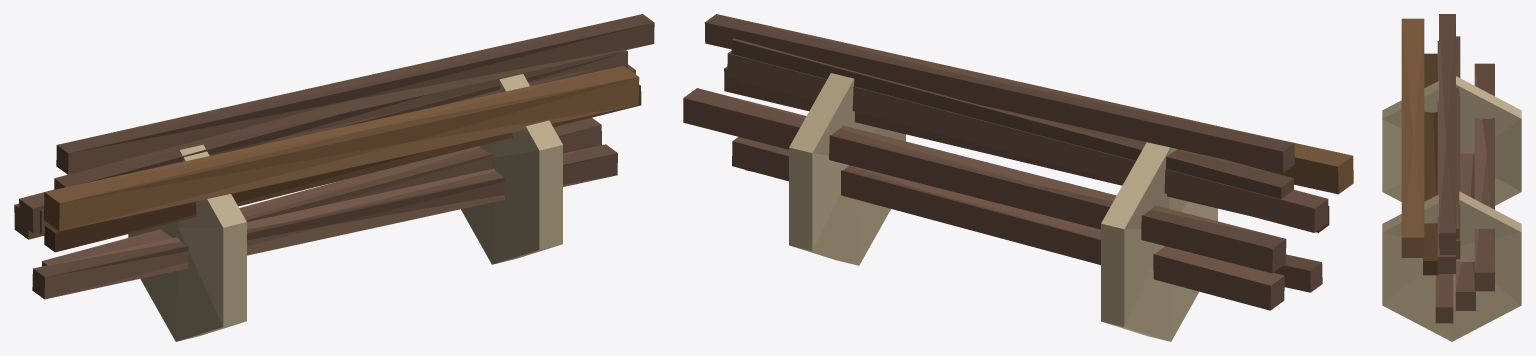
Rendered from fuel_firewood_vyazanka_hvorosta_idle.glb.
The picture shows the model from 3 angles, left to right: view 1: azimuth 30°, elevation 25°; view 2: azimuth 150°, elevation 25°; view 3: azimuth 270°, elevation 25°; orthographic projection. The views are drawn at different scales.
Parts seen in each view (by area): view 1: fuel_firewood_vyazanka_hvorosta_idle; view 2: fuel_firewood_vyazanka_hvorosta_idle; view 3: fuel_firewood_vyazanka_hvorosta_idle.
Part boxes in pixels (x1,y1,x2,y2): fuel_firewood_vyazanka_hvorosta_idle: [14, 14, 654, 341]; fuel_firewood_vyazanka_hvorosta_idle: [683, 14, 1353, 341]; fuel_firewood_vyazanka_hvorosta_idle: [1382, 14, 1521, 341].
Bounding box in the file's own units: 0.3928 × 0.135 × 0.1039.
Materials: 1 (1 with a texture image).
